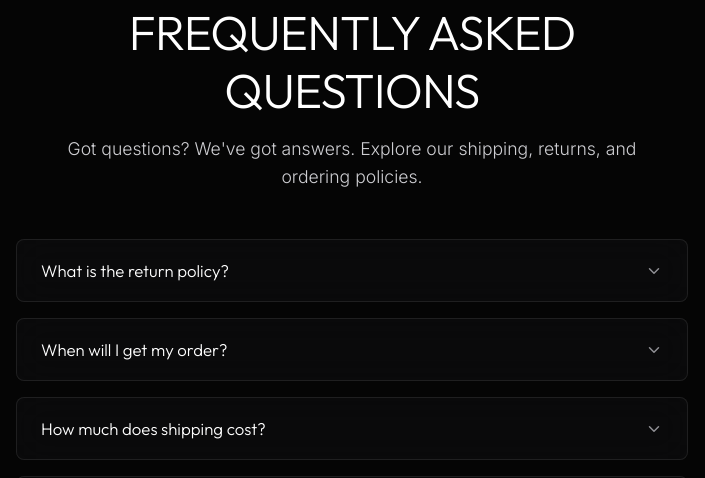
FAQ Component › toggles question visibility when clicked
Note: Click to open
What coordinates should you click on to do the following:
click the button "What is the return policy?"
I would click on:
 (135, 271)
Its box is [17, 240, 687, 302].
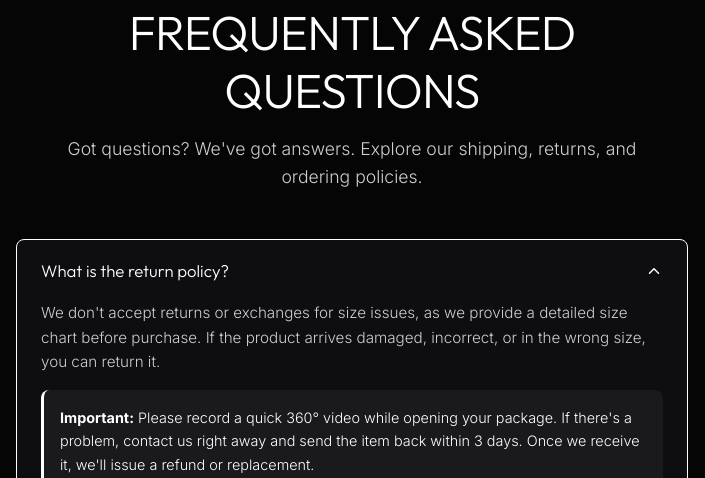
Expected: the button "What is the return policy?" is expanded
Note: Click again to close
What coordinates should you click on to do the following:
click the button "What is the return policy?"
I would click on:
 (135, 271)
Its box is [17, 240, 687, 302].
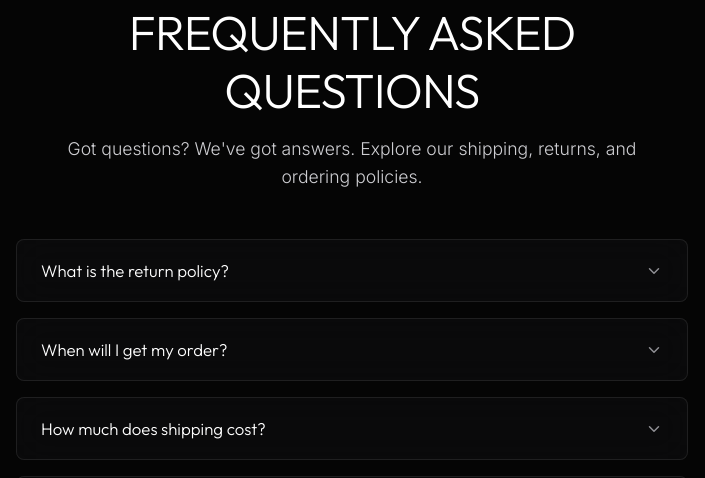
Expected: the button "What is the return policy?" is collapsed, [17, 240, 687, 302]
